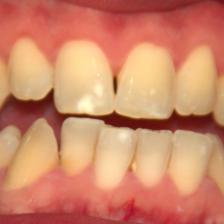cavity: (110, 71, 123, 95), (127, 157, 137, 176)
